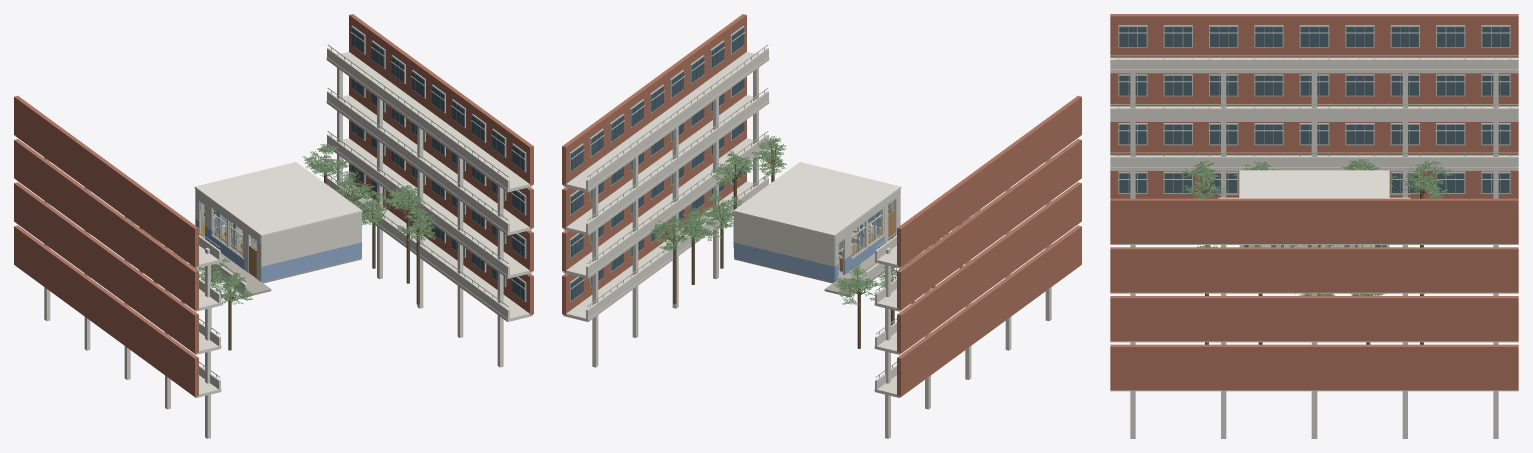
File: film.glb
The picture shows the model from 3 angles, left to right: view 1: azimuth 30°, elevation 25°; view 2: azimuth 150°, elevation 25°; view 3: azimuth 270°, elevation 25°; orthographic projection. The views are drawn at different scales.
Parts seen in each view (by area): view 1: 窗外景深 · 对楼陶色窗间墙、廊板及绿荫, 房间 · 双侧窗洞、磨石地面与顶梁, Rear | open classroom doorway, transom and recess; view 2: 窗外景深 · 对楼陶色窗间墙、廊板及绿荫, 房间 · 双侧窗洞、磨石地面与顶梁, Rear | open classroom doorway, transom and recess; view 3: 窗外景深 · 对楼陶色窗间墙、廊板及绿荫, 房间 · 双侧窗洞、磨石地面与顶梁.
Part boxes in pixels (x1=…): 窗外景深 · 对楼陶色窗间墙、廊板及绿荫: x1=14, y1=14, x2=533, y2=438; 房间 · 双侧窗洞、磨石地面与顶梁: x1=194, y1=162, x2=362, y2=283; Rear | open classroom doorway, transom and recess: x1=195, y1=189, x2=212, y2=243; 窗外景深 · 对楼陶色窗间墙、廊板及绿荫: x1=562, y1=14, x2=1081, y2=438; 房间 · 双侧窗洞、磨石地面与顶梁: x1=733, y1=162, x2=901, y2=283; Rear | open classroom doorway, transom and recess: x1=834, y1=225, x2=851, y2=281; 窗外景深 · 对楼陶色窗间墙、廊板及绿荫: x1=1110, y1=14, x2=1518, y2=438; 房间 · 双侧窗洞、磨石地面与顶梁: x1=1239, y1=170, x2=1389, y2=247.
Size of the model in its own units: 28.74 by 17.95 by 26.55.
61 materials, 4 textured.
